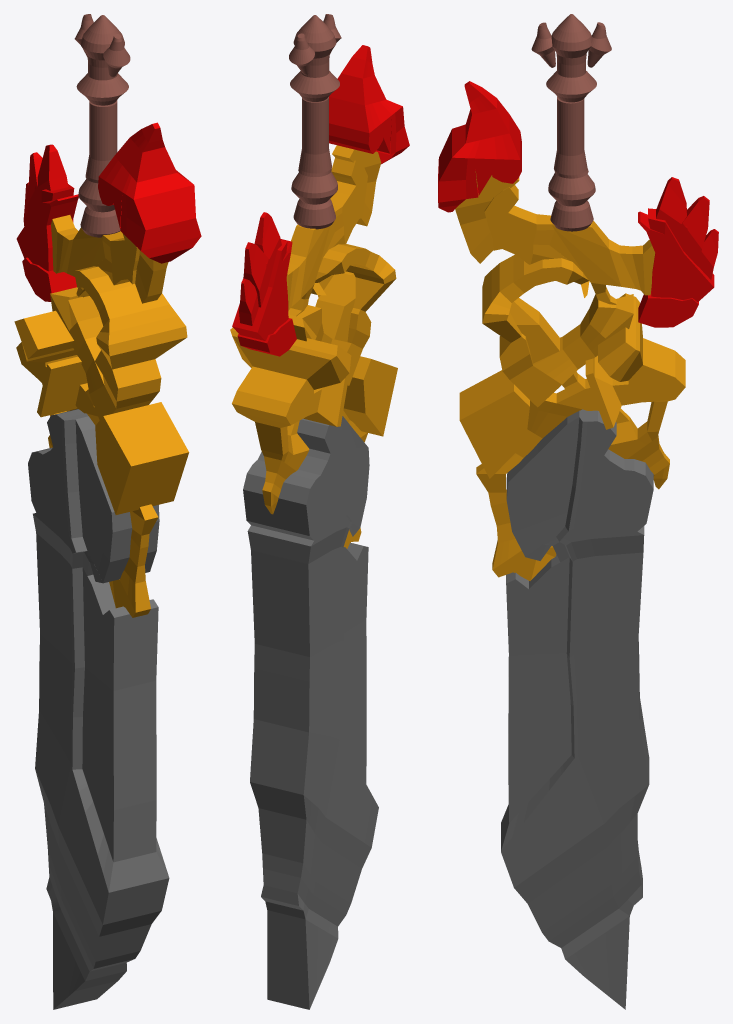
Rendered from sword_v2.fbx.
3 views of the same model, side by side, from view 1: azimuth 30°, elevation 25°; view 2: azimuth 150°, elevation 25°; view 3: azimuth 270°, elevation 25° (orthographic). The views are drawn at different scales.
Parts seen in each view (by area): view 1: Cone, Cone.008, Cone.007, Cone.006, Cone.015; view 2: Cone, Cone.008, Cone.006, Cone.015, Cone.007; view 3: Cone, Cone.008, Cone.006, Cone.015, Cone.007.
Part boxes in pixels (x1=…): Cone: x1=28, y1=409, x2=169, y2=1009; Cone.008: x1=14, y1=215, x2=189, y2=617; Cone.007: x1=98, y1=122, x2=201, y2=263; Cone.006: x1=74, y1=14, x2=130, y2=237; Cone.015: x1=16, y1=144, x2=78, y2=301; Cone: x1=243, y1=416, x2=378, y2=1009; Cone.008: x1=230, y1=145, x2=397, y2=548; Cone.006: x1=289, y1=14, x2=341, y2=229; Cone.015: x1=232, y1=212, x2=296, y2=356; Cone.007: x1=329, y1=45, x2=409, y2=164; Cone: x1=501, y1=409, x2=653, y2=1009; Cone.008: x1=455, y1=171, x2=685, y2=580; Cone.006: x1=531, y1=14, x2=611, y2=231; Cone.015: x1=638, y1=177, x2=718, y2=327; Cone.007: x1=438, y1=81, x2=521, y2=212.
Size of the model in its own units: 53.95 by 469 by 121.
